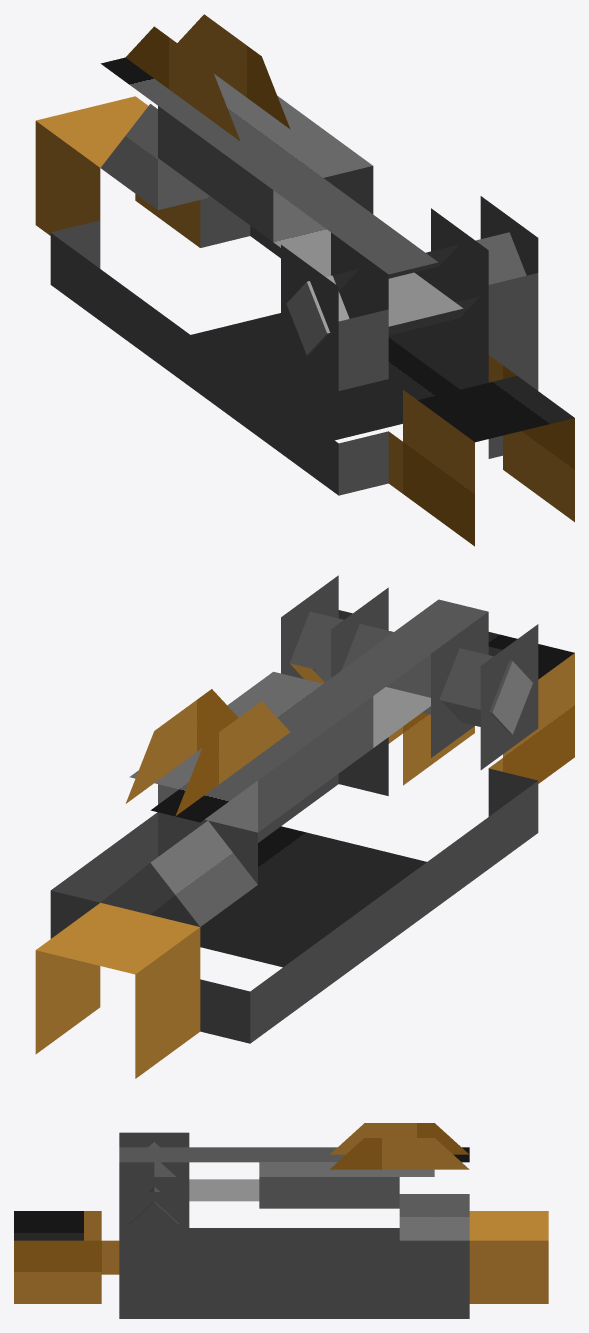
The model's file is knife_switch.obj.
3 renders of one model, top to bottom at view 1: azimuth 30°, elevation 25°; view 2: azimuth 150°, elevation 25°; view 3: azimuth 270°, elevation 25°, orthographic. The views are drawn at different scales.
Visible parts, largest first — view 1: knifeswitch_Cube.003, switchhandle_Cube.006; view 2: knifeswitch_Cube.003, switchhandle_Cube.006; view 3: knifeswitch_Cube.003, switchhandle_Cube.006.
Part boxes in pixels (bbox=[...]): knifeswitch_Cube.003: bbox=[35, 96, 574, 546]; switchhandle_Cube.006: bbox=[100, 14, 526, 355]; knifeswitch_Cube.003: bbox=[35, 575, 574, 1078]; switchhandle_Cube.006: bbox=[125, 599, 532, 884]; knifeswitch_Cube.003: bbox=[14, 1132, 548, 1318]; switchhandle_Cube.006: bbox=[119, 1123, 469, 1246].
Bounding box in the file's own units: 0.2578 × 0.3125 × 1.
